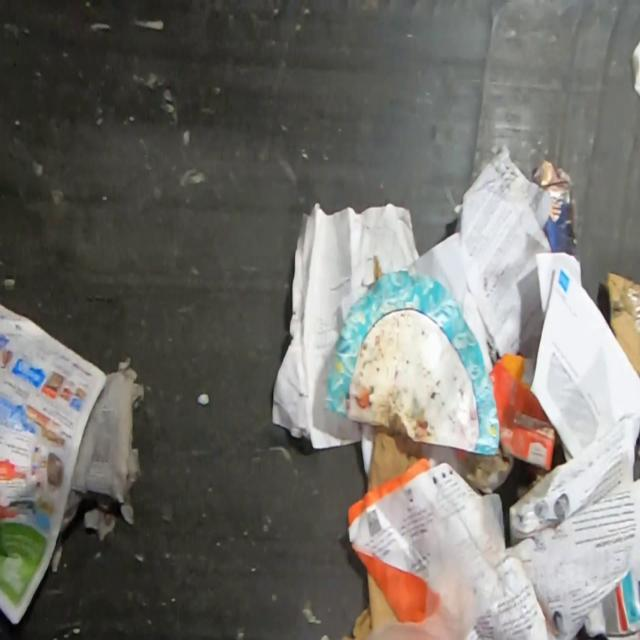cardboard: (322, 267, 500, 456), (489, 352, 557, 470), (531, 158, 578, 258), (340, 569, 398, 640), (604, 269, 640, 378), (366, 426, 422, 493)
soft_plastic: (366, 483, 507, 640)
